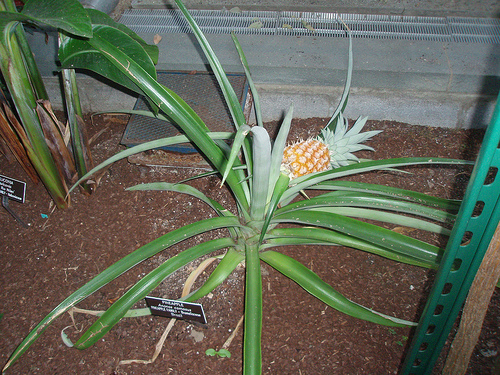pineapple: (272, 113, 385, 186)
